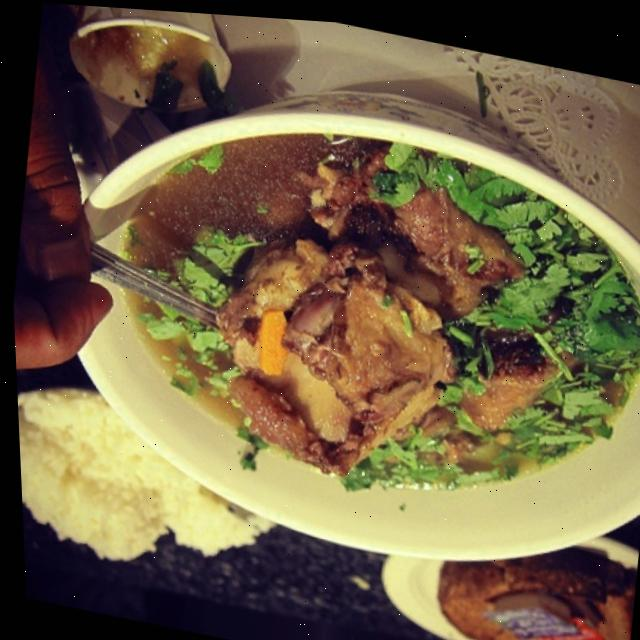汤锅炖物: (15, 16, 640, 623)
